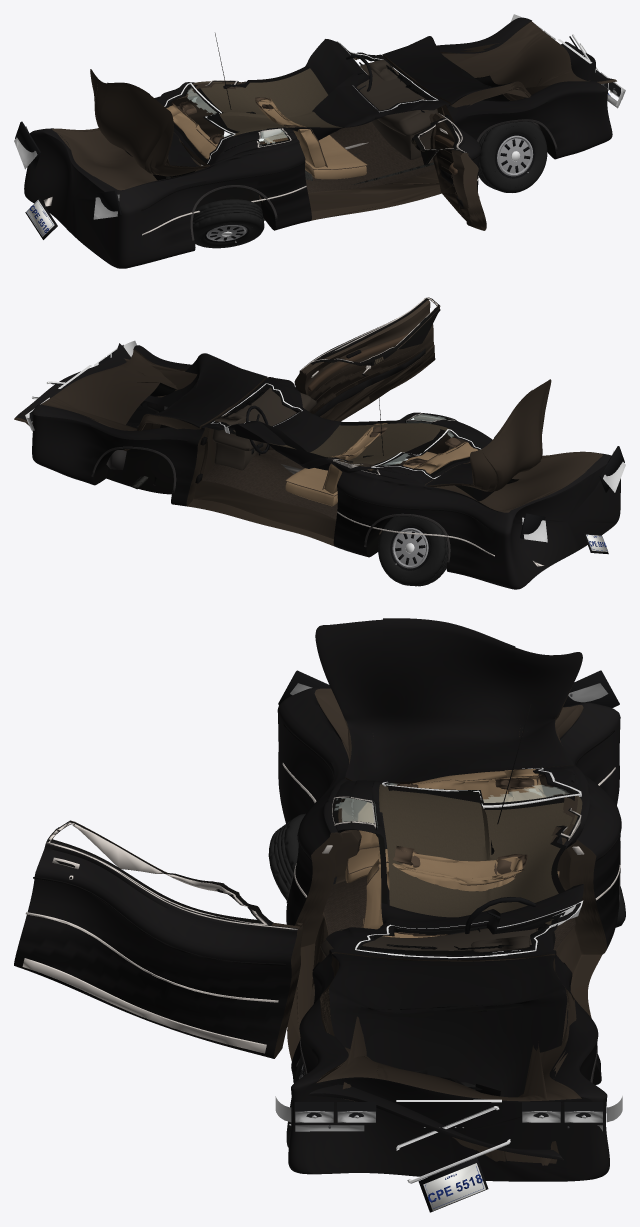
Rendered from coupe84_roll_d3_lod1.glb.
3 views of the same model, one above another, from view 1: azimuth 30°, elevation 25°; view 2: azimuth 150°, elevation 25°; view 3: azimuth 270°, elevation 25° (orthographic). The views are drawn at different scales.
Visible parts, largest first — view 1: Body, Interior, Trunk, Hood, Wheel_FR_mesh, Door_FR, Wheel_RR_mesh, Ends, Trim, Glass, Trim_FR, Underbody; view 2: Body, Door_FR, Hood, Interior, Trunk, Wheel_RL_mesh, Trim_FR, Ends, Trim, Glass, Engine; view 3: Body, Trunk, Door_FR, Hood, Interior, Ends, Trim_FR, Glass, Trim, Wheel_RR_mesh.
Boxes of the visible parts, x1,y1,x2,y2 form: Body: (24,17,612,268); Interior: (166,59,438,179); Trunk: (90,69,209,176); Hood: (382,36,616,107); Wheel_FR_mesh: (478,121,547,192); Door_FR: (411,113,486,230); Wheel_RR_mesh: (193,199,264,248); Ends: (14,14,625,239); Trim: (141,33,557,240); Glass: (164,41,438,165); Trim_FR: (418,113,481,208); Underbody: (43,142,434,220); Body: (32,345,620,589); Door_FR: (294,298,440,421); Hood: (14,343,267,450); Interior: (212,387,477,506); Trunk: (425,379,551,491); Wheel_RL_mesh: (378,516,447,586); Trim_FR: (300,297,437,416); Ends: (25,340,625,554); Trim: (91,392,494,562); Glass: (211,383,480,478); Engine: (106,401,167,469); Body: (277,687,620,1181); Trunk: (315,618,582,782); Door_FR: (14,820,302,1058); Hood: (307,953,576,1165); Interior: (320,768,559,957); Ends: (275,670,622,1212); Trim_FR: (22,822,297,1053); Glass: (333,767,583,958); Trim: (282,704,621,1082); Wheel_RR_mesh: (268,813,336,900).
Bounding box in the file's own units: 5.53 × 1.53 × 3.18.
29 materials, 5 textured.
